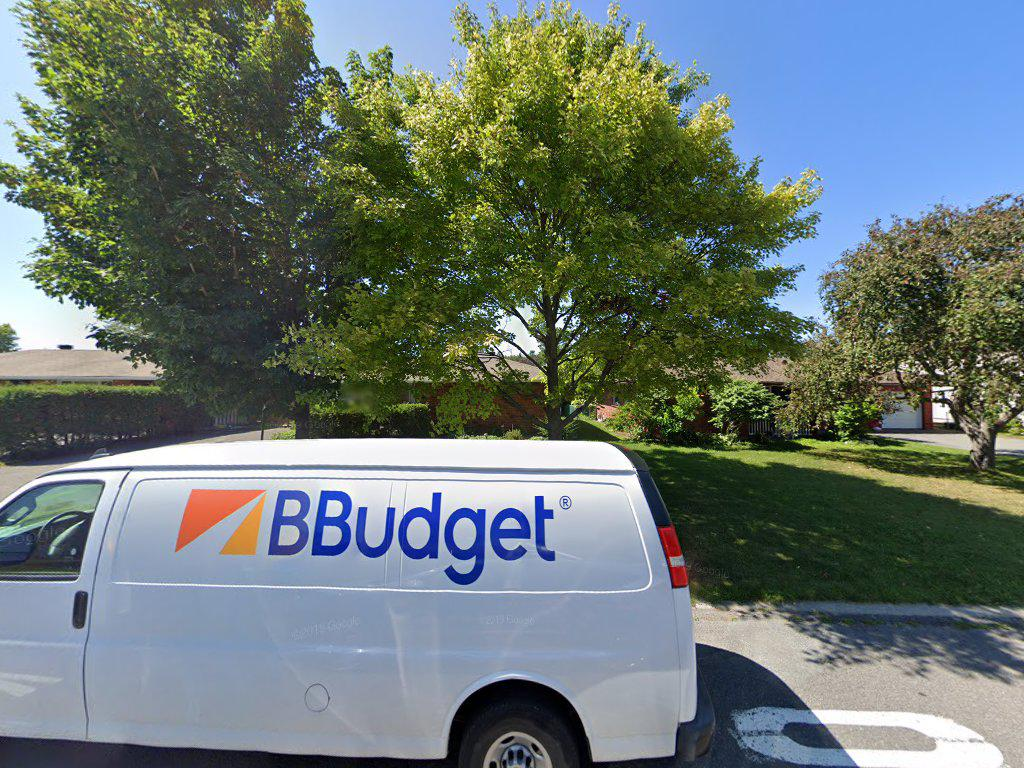trunk: (967, 417, 1000, 484)
